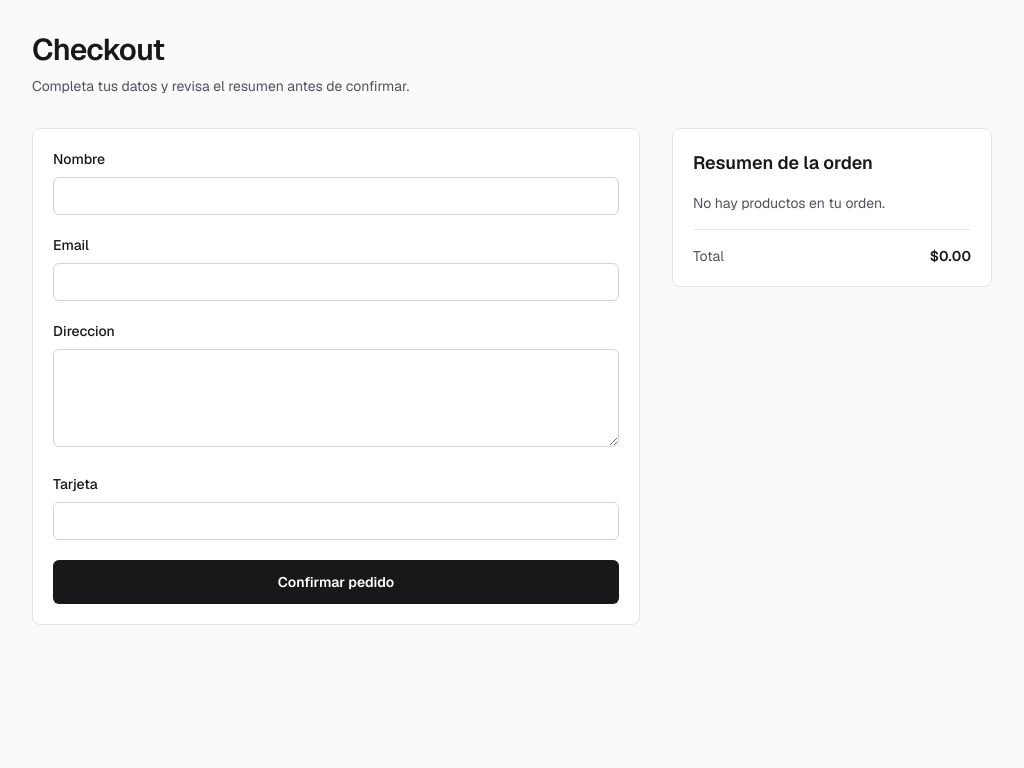
Test case: CheckoutPage › valida campos requeridos y email valido
Type "correo-invalido" into the field labelled "Email" at (336,282), box top-left (53, 263), bottom-right (619, 301)
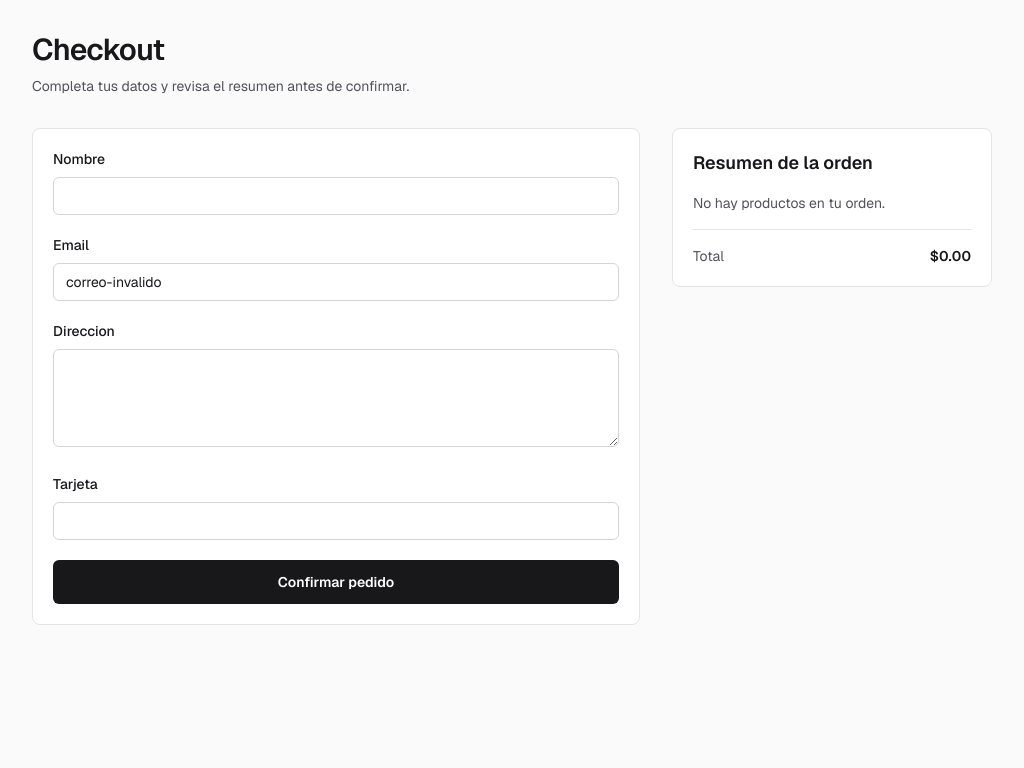
Click the button "Confirmar pedido" at (336,582), box top-left (53, 560), bottom-right (619, 604)
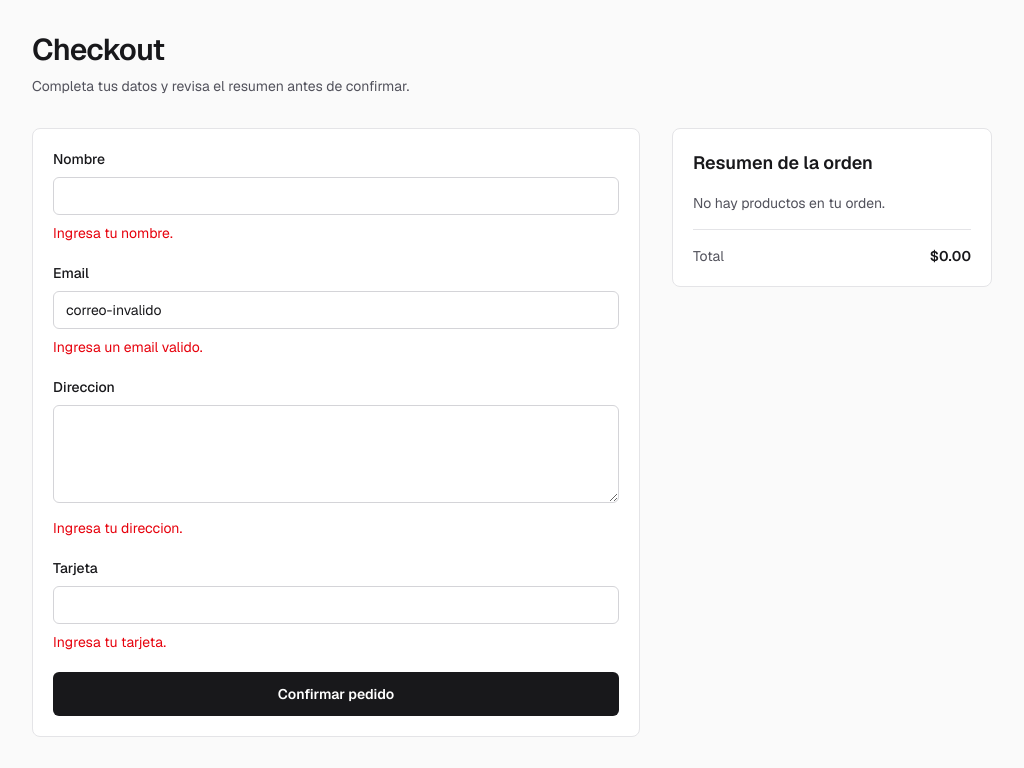
Result: the text "Ingresa tu nombre." is shown at top-left (53, 224), bottom-right (173, 242)
Result: the text "Ingresa un email valido." is shown at top-left (53, 338), bottom-right (202, 356)
Result: the text "Ingresa tu direccion." is shown at top-left (53, 519), bottom-right (182, 537)
